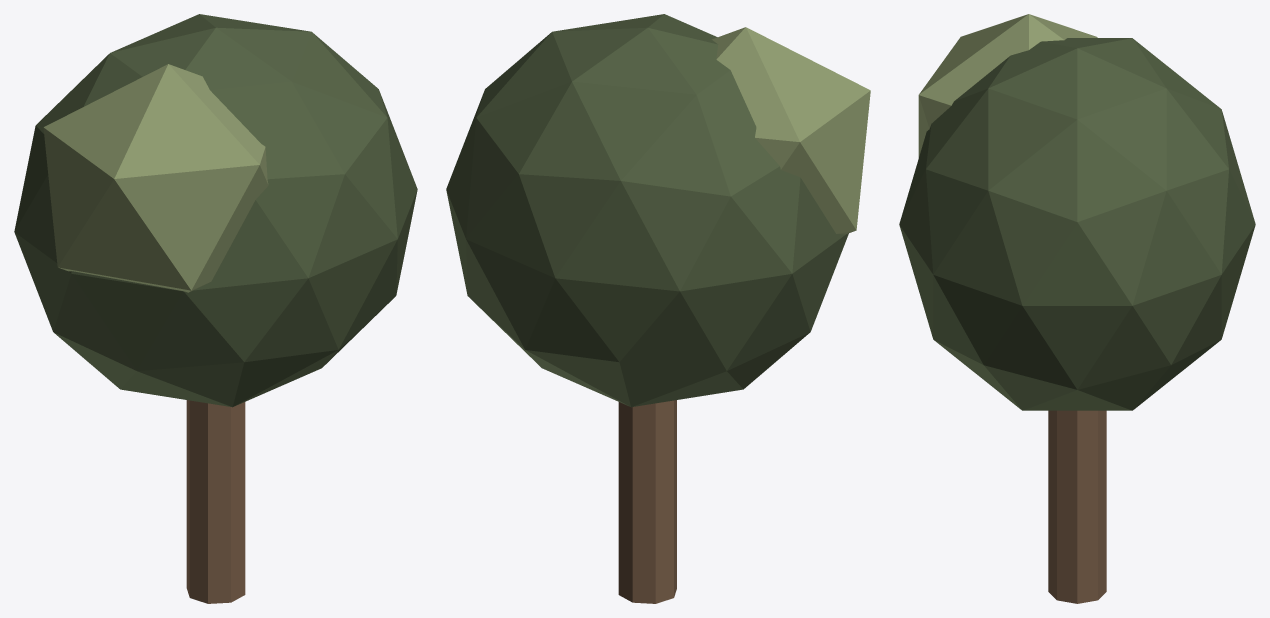
The model's file is tree.glb.
3 renders of one model, left to right at view 1: azimuth 30°, elevation 25°; view 2: azimuth 150°, elevation 25°; view 3: azimuth 270°, elevation 25°, orthographic. The views are drawn at different scales.
Visible parts, largest first — view 1: tree; view 2: tree; view 3: tree.
Boxes of the visible parts, x1=… form: tree: x1=14, y1=14, x2=417, y2=603; tree: x1=446, y1=14, x2=870, y2=603; tree: x1=899, y1=14, x2=1255, y2=603.
Size of the model in its own units: 2.45 by 3.7 by 2.2.
